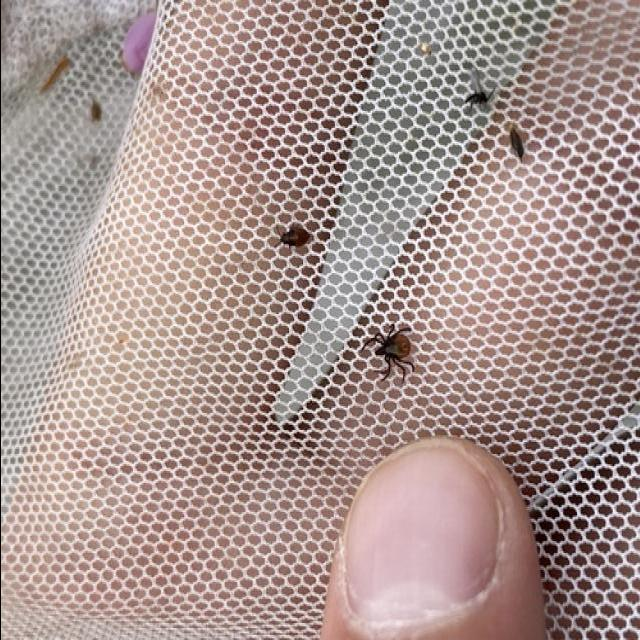Ixodes Ricinus-F: (358, 323, 417, 386)
